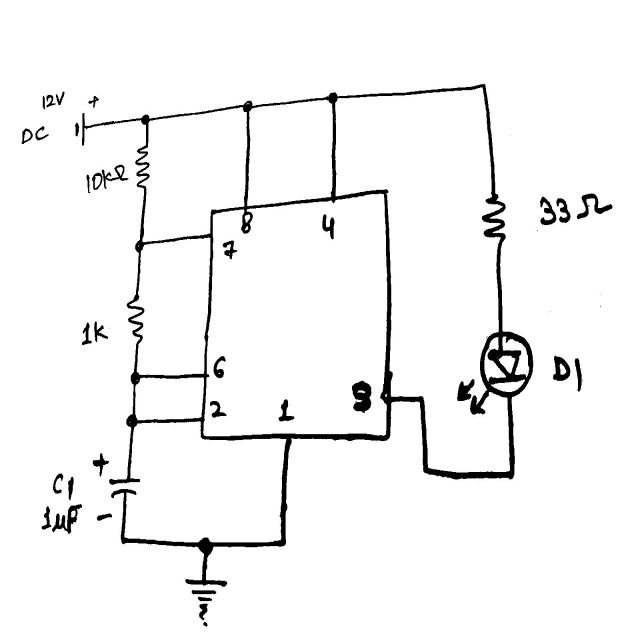capacitor: (91, 453, 142, 523)
diode: (457, 329, 534, 416)
ground: (182, 575, 228, 630)
junction: (198, 537, 216, 557), (126, 409, 140, 432), (414, 390, 428, 412), (116, 527, 130, 549), (477, 78, 492, 97), (505, 464, 518, 485), (276, 533, 289, 551), (241, 97, 254, 114), (419, 458, 432, 475), (134, 238, 146, 255), (130, 369, 141, 387), (139, 111, 151, 127), (328, 91, 339, 108)
resistor: (481, 190, 507, 241), (125, 294, 147, 346), (134, 142, 151, 195)
source: (73, 93, 101, 148)
text: (40, 471, 84, 535), (538, 193, 614, 226), (84, 163, 130, 195), (550, 351, 584, 393), (351, 380, 372, 414), (81, 321, 109, 346), (21, 125, 51, 145), (320, 212, 338, 241), (41, 90, 65, 111), (277, 398, 297, 423), (221, 238, 241, 262), (209, 400, 228, 422), (212, 355, 226, 382), (240, 210, 254, 236)
